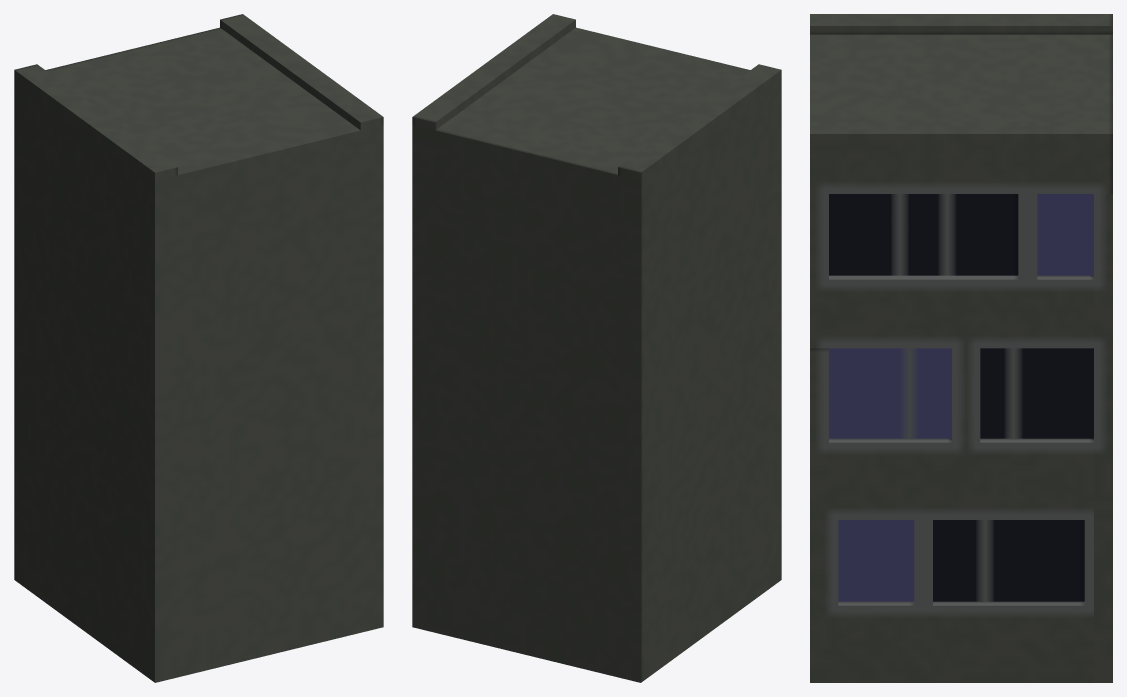
Rendered from u_dom_okna_front.dae.
The picture shows the model from 3 angles, left to right: view 1: azimuth 30°, elevation 25°; view 2: azimuth 150°, elevation 25°; view 3: azimuth 270°, elevation 25°; orthographic projection. The views are drawn at different scales.
Visible parts, largest first — view 1: Content; view 2: Content; view 3: Content.
Boxes of the visible parts, box(x1,y1,x2,y2) form: Content: box(14, 14, 383, 682); Content: box(412, 14, 781, 682); Content: box(810, 14, 1112, 682).
Bounding box in the file's own units: 30 × 64 × 32.
1 material, 1 textured.
